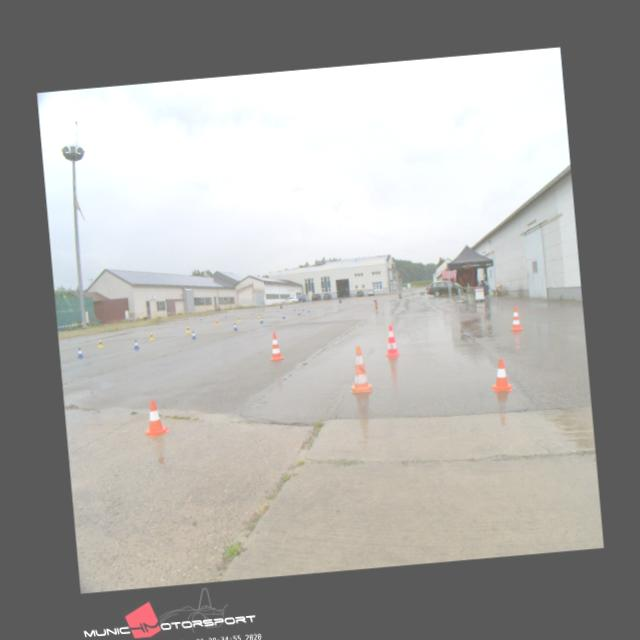blue_cone: (76, 347, 84, 357), (134, 339, 140, 348), (190, 331, 197, 338), (232, 322, 237, 330), (259, 316, 263, 323), (281, 312, 285, 318), (297, 309, 300, 314)
large_orange_cone: (346, 344, 372, 392), (383, 324, 399, 356), (268, 330, 282, 360), (508, 304, 522, 330)
orange_cone: (142, 400, 169, 436), (489, 356, 512, 392)
yellow_cone: (148, 332, 154, 339), (98, 338, 102, 348), (185, 325, 190, 332), (214, 319, 218, 325), (237, 316, 241, 320), (258, 312, 260, 317)
